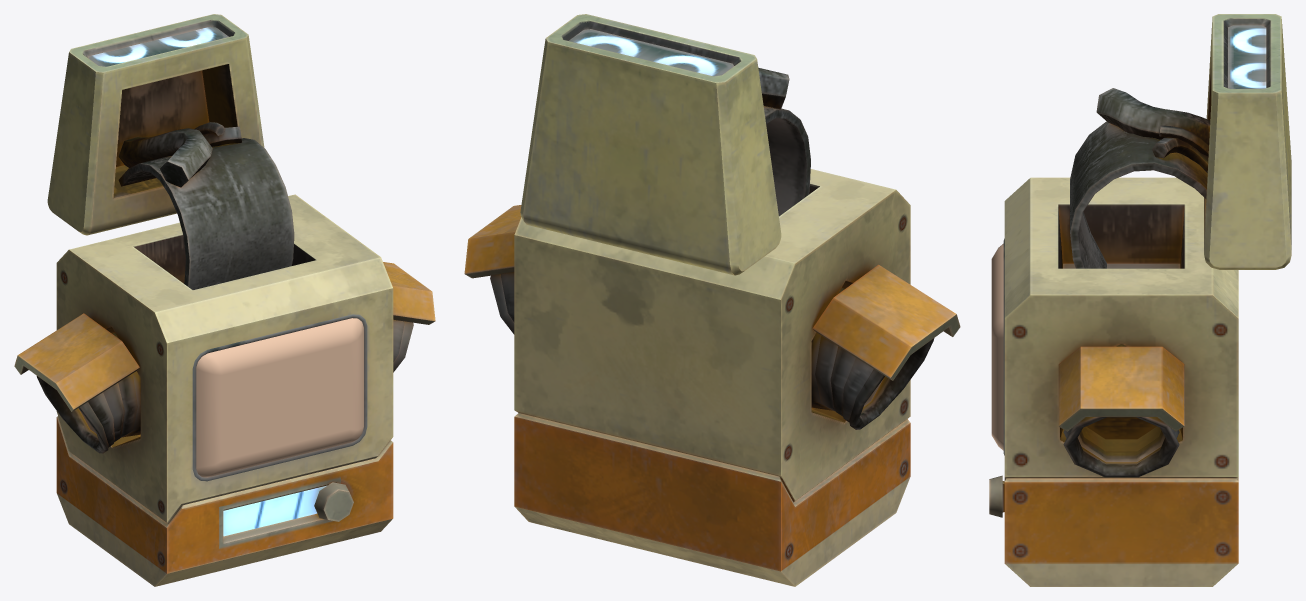
Rendered from SM0029_Scifi_BrokenRobot_Body.fbx.
3 renders of one model, left to right at view 1: azimuth 30°, elevation 25°; view 2: azimuth 150°, elevation 25°; view 3: azimuth 270°, elevation 25°, orthographic. The views are drawn at different scales.
Parts seen in each view (by area): view 1: Cube.021; view 2: Cube.021; view 3: Cube.021.
Part boxes in pixels (x1,y1,x2,y2): Cube.021: (14,14,435,586); Cube.021: (464,14,960,586); Cube.021: (989,14,1291,586).
Bounding box in the file's own units: 58.17 × 38.08 × 65.42.
